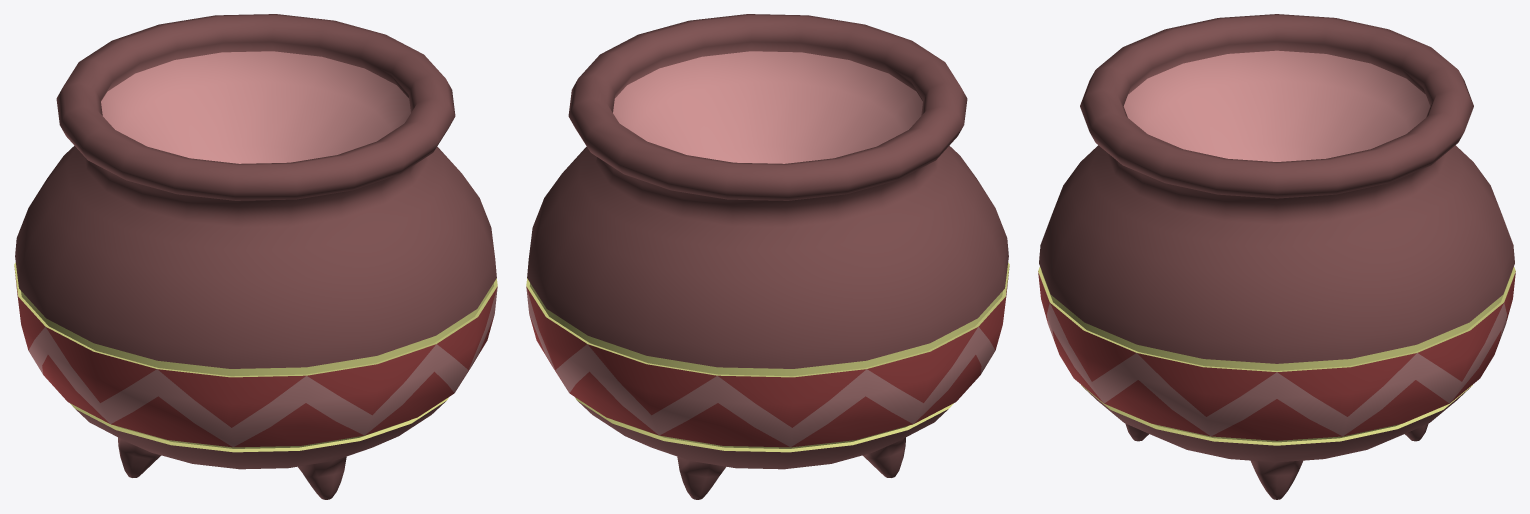
The model's file is PotRed.fbx.
3 views of the same model, side by side, from view 1: azimuth 30°, elevation 25°; view 2: azimuth 150°, elevation 25°; view 3: azimuth 270°, elevation 25° (orthographic).
Visible parts, largest first — view 1: pSphere4; view 2: pSphere4; view 3: pSphere4.
Part boxes in pixels (x1=…): pSphere4: x1=14, y1=14, x2=497, y2=499; pSphere4: x1=526, y1=14, x2=1009, y2=499; pSphere4: x1=1038, y1=14, x2=1515, y2=499.
Bounding box in the file's own units: 25.89 × 21 × 25.89.
